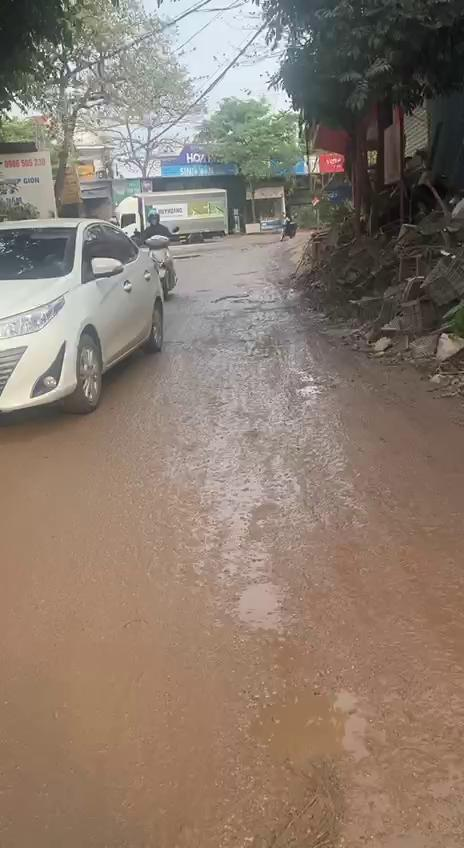pothole: (221, 560, 382, 848)
